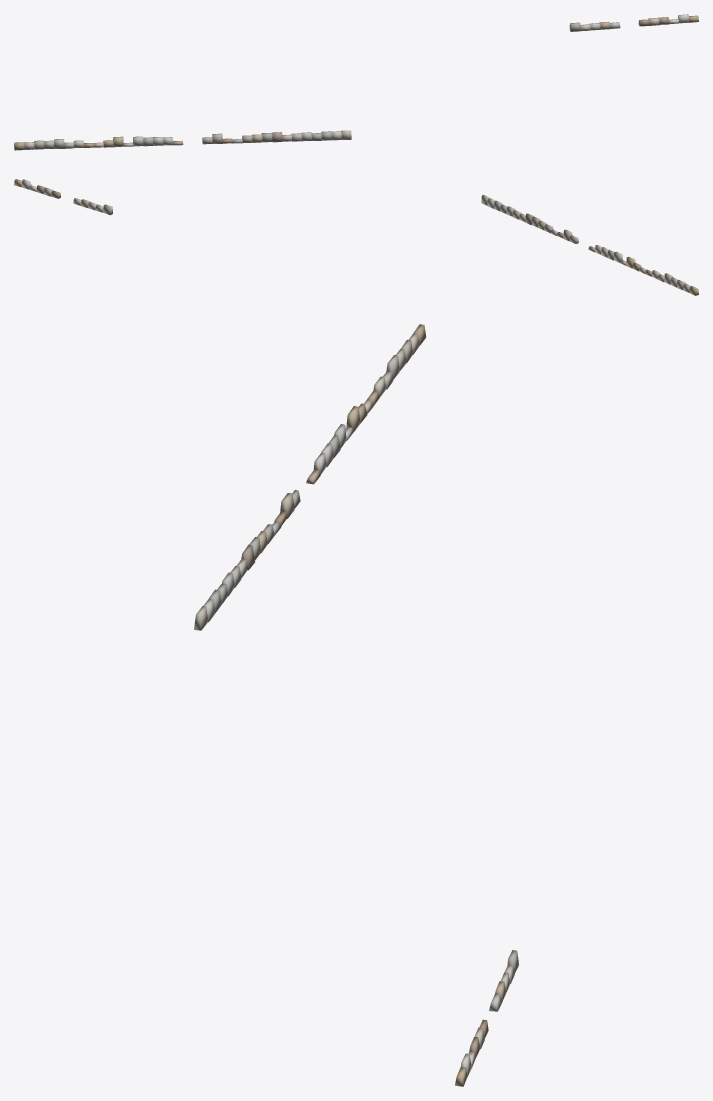
The model's file is farm_-47_-45_far.glb.
3 renders of one model, top to bottom at view 1: azimuth 30°, elevation 25°; view 2: azimuth 150°, elevation 25°; view 3: azimuth 270°, elevation 25°, orthographic. The views are drawn at different scales.
Parts seen in each view (by area): view 1: geometry_0; view 2: geometry_0; view 3: geometry_0.
Part boxes in pixels (x1,y1,x2,y2): geometry_0: [14, 14, 698, 150]; geometry_0: [14, 179, 698, 295]; geometry_0: [194, 324, 518, 1086].
Bounding box in the file's own units: 124 × 9.33 × 25.96.
